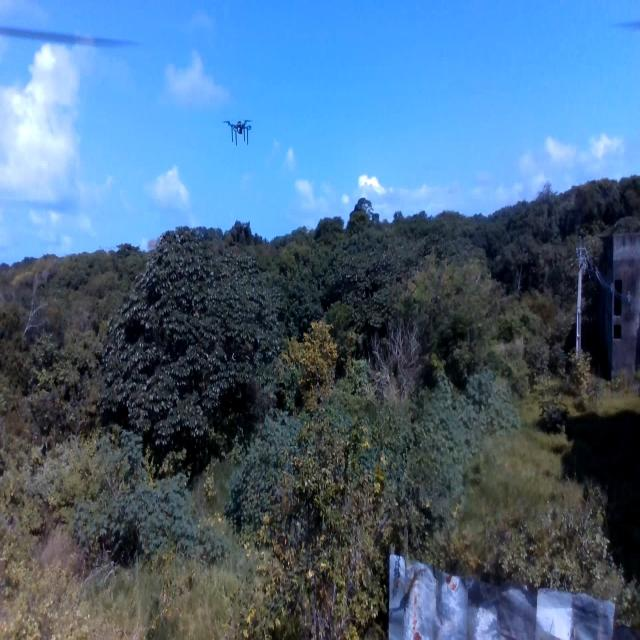-uav-: (219, 105, 255, 159)
